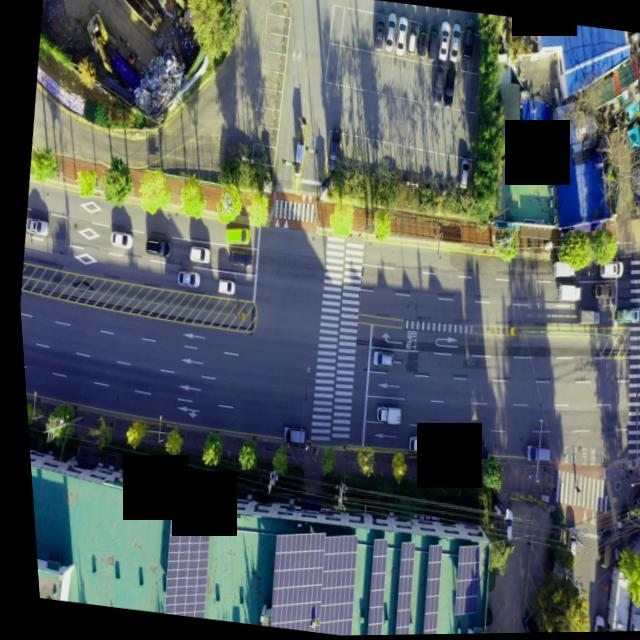car: (321, 129, 339, 169), (424, 20, 441, 62), (588, 531, 606, 570), (372, 14, 388, 53), (220, 226, 248, 248), (517, 442, 546, 463), (441, 69, 457, 107), (460, 22, 475, 61), (494, 509, 510, 545), (448, 25, 463, 62), (382, 15, 397, 52), (393, 18, 408, 55), (428, 70, 443, 106), (415, 23, 430, 58), (435, 24, 449, 61), (402, 23, 417, 57), (140, 237, 165, 257), (277, 426, 302, 446), (21, 217, 46, 236), (593, 261, 618, 280), (175, 267, 198, 287), (558, 525, 572, 557), (510, 612, 530, 634), (455, 159, 469, 189), (108, 231, 131, 249), (587, 282, 610, 300), (366, 349, 388, 367), (225, 250, 248, 267), (185, 246, 206, 263), (213, 278, 233, 295), (582, 613, 597, 634)
medium_truck: (113, 0, 169, 38)
small_truck: (367, 404, 396, 425), (456, 441, 483, 463), (400, 432, 427, 454), (610, 306, 637, 326), (551, 284, 578, 304), (571, 307, 596, 327), (547, 261, 572, 281)
